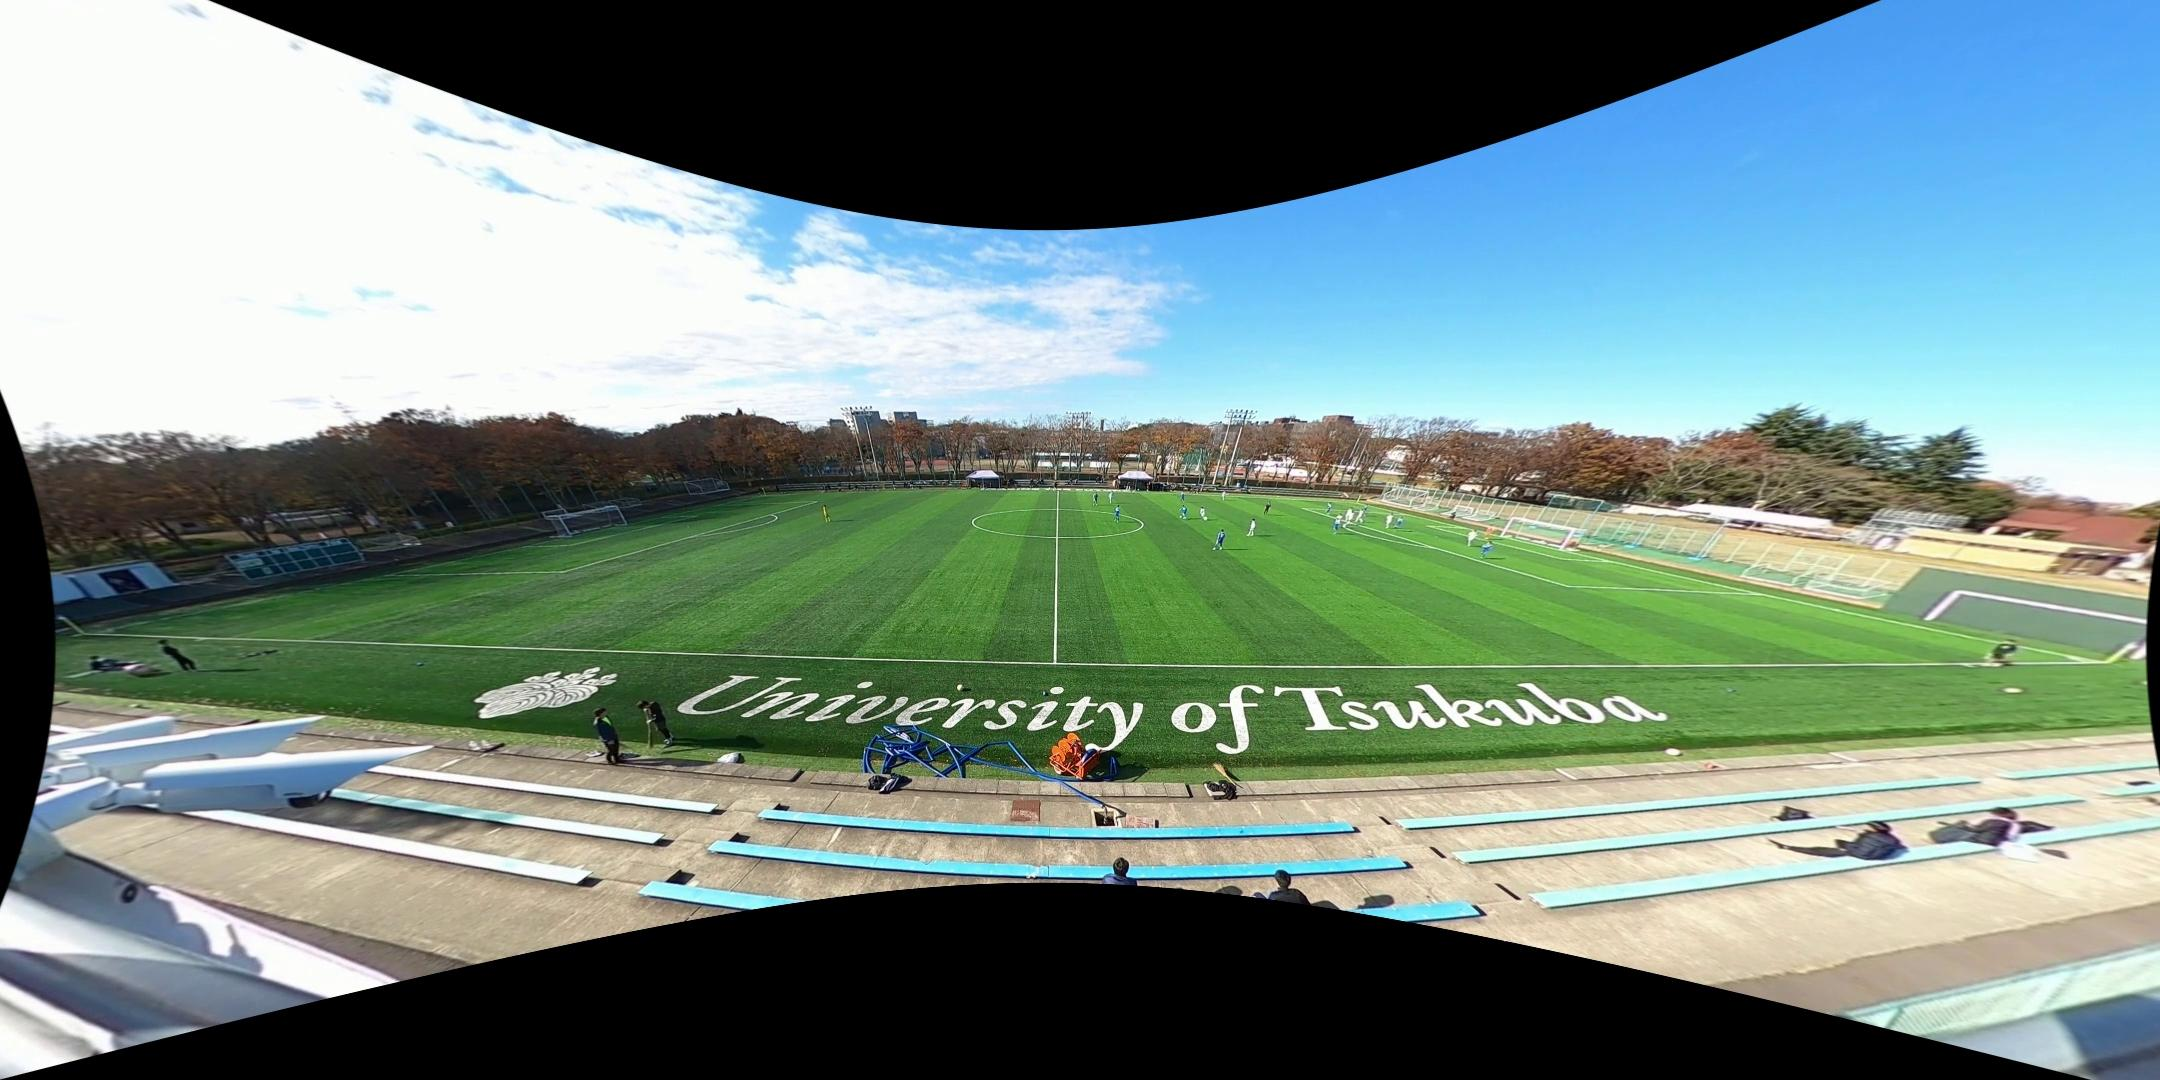person: (1981, 639, 2018, 668), (1210, 528, 1226, 550), (1477, 542, 1493, 562), (1466, 528, 1478, 547), (822, 504, 833, 524), (1483, 525, 1495, 541), (1247, 517, 1256, 537), (1393, 516, 1404, 530), (1199, 506, 1208, 522), (1345, 510, 1355, 524), (1333, 518, 1341, 535), (1385, 513, 1393, 529), (1114, 505, 1121, 523), (1179, 505, 1188, 519), (1106, 491, 1115, 504), (1262, 502, 1271, 515), (1091, 492, 1099, 506), (1325, 502, 1332, 516), (1357, 509, 1364, 523), (1344, 507, 1351, 521), (1334, 513, 1341, 527), (1362, 505, 1369, 518), (1178, 491, 1185, 503), (1221, 490, 1227, 501)
sports ball: (955, 683, 968, 694), (1178, 515, 1182, 519)
